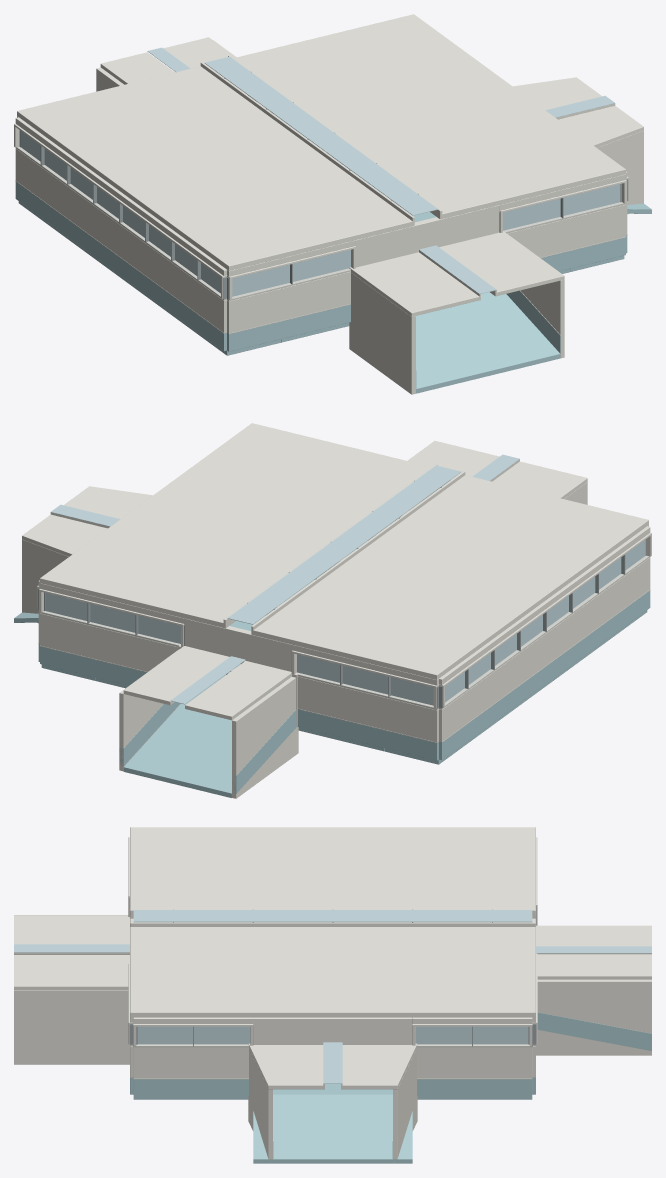
The model's file is formal_mainhall.glb.
The picture shows the model from 3 angles, top to bottom: view 1: azimuth 30°, elevation 25°; view 2: azimuth 150°, elevation 25°; view 3: azimuth 270°, elevation 25°; orthographic projection. The views are drawn at different scales.
Parts seen in each view (by area): view 1: Main_Ceiling-5.85, Main_Ceiling5.85, Main_SouthVestibule, Main_West0_Lower, Main_SkylightGlass, Main_SouthVestibule_EnclosureWall-1, Main_SouthVestibule_EnclosureRoof-1, Main_SouthVestibule_EnclosureRoof1, Main_South_PortalHead, Main_South0_Lower, Main_West0_TileWainscot, Main_South1_Lower (+22 smaller); view 2: Main_Ceiling-5.85, Main_Ceiling5.85, Main_West0_Lower, Main_NorthVestibule, Main_SkylightGlass, Main_North0_Lower, Main_NorthVestibule_SideWall-1, Main_North1_Lower, Main_West0_TileWainscot, Main_NorthVestibule_Roof-1, Main_North_PortalHead, Main_West0_Glass (+27 smaller); view 3: Main_Ceiling5.85, Main_Ceiling-5.85, Main_EastVestibule, Main_SouthVestibule_EnclosureWall1, Main_NorthVestibule_SideWall1, Main_SkylightGlass, Main_East_PortalHead, Main_SouthVestibule_EnclosureRoof1, Main_East0_Lower, Main_East1_Lower, Main_SouthVestibule_EnclosureRoof-1, Main_NorthVestibule_Roof1 (+17 smaller).
Boxes of the visible parts, box(x1,y1,x2,y2) form: Main_Ceiling-5.85: box(17, 66, 414, 270); Main_Ceiling5.85: box(234, 14, 625, 219); Main_SouthVestibule: box(416, 292, 560, 393); Main_West0_Lower: box(15, 148, 226, 332); Main_SkylightGlass: box(205, 56, 438, 215); Main_SouthVestibule_EnclosureWall-1: box(349, 273, 415, 394); Main_SouthVestibule_EnclosureRoof-1: box(349, 252, 480, 316); Main_SouthVestibule_EnclosureRoof1: box(439, 231, 564, 296); Main_South_PortalHead: box(355, 205, 499, 267); Main_South0_Lower: box(227, 271, 350, 333); Main_West0_TileWainscot: box(15, 182, 226, 351); Main_South1_Lower: box(507, 204, 625, 257); Main_Ceiling-5.85: box(251, 475, 648, 679); Main_Ceiling5.85: box(40, 423, 431, 628); Main_West0_Lower: box(439, 557, 650, 741); Main_NorthVestibule: box(123, 699, 241, 797); Main_SkylightGlass: box(227, 465, 460, 624); Main_North0_Lower: box(297, 676, 438, 742); Main_NorthVestibule_SideWall-1: box(232, 677, 298, 798); Main_North1_Lower: box(40, 613, 178, 671); Main_West0_TileWainscot: box(439, 590, 650, 759); Main_NorthVestibule_Roof-1: box(185, 661, 291, 720); Main_North_PortalHead: box(184, 618, 292, 671); Main_West0_Glass: box(445, 539, 645, 702); Main_Ceiling5.85: box(130, 927, 535, 1017); Main_Ceiling-5.85: box(130, 827, 535, 918); Main_EastVestibule: box(253, 1094, 412, 1163); Main_SouthVestibule_EnclosureWall1: box(14, 990, 129, 1064); Main_NorthVestibule_SideWall1: box(536, 979, 651, 1055); Main_SkylightGlass: box(133, 910, 532, 922); Main_East_PortalHead: box(253, 1017, 412, 1044); Main_SouthVestibule_EnclosureRoof1: box(14, 955, 129, 989); Main_East0_Lower: box(417, 1047, 532, 1078); Main_East1_Lower: box(133, 1047, 248, 1078); Main_SouthVestibule_EnclosureRoof-1: box(14, 915, 129, 944); Main_NorthVestibule_Roof1: box(537, 954, 651, 979).
Size of what is drawn, in the model's own units: 27.26 by 6.25 by 32.
